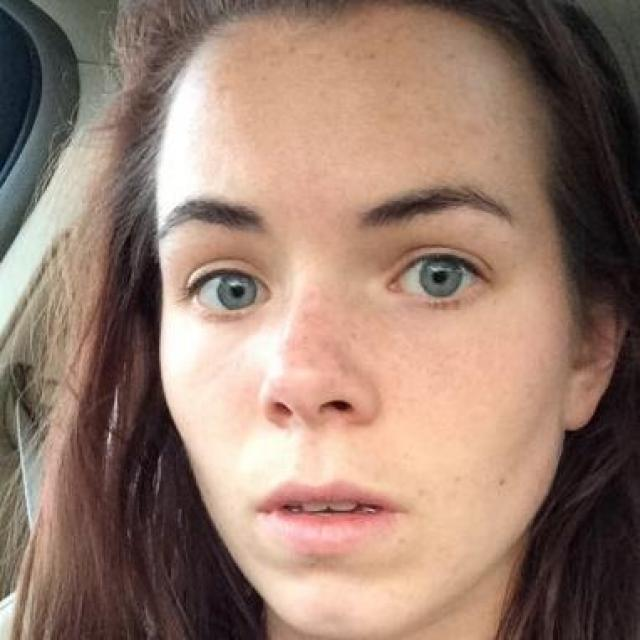surprised: (158, 48, 576, 610)
